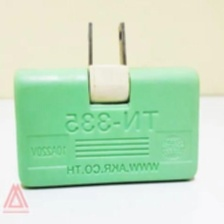three_eye_plug: (10, 14, 204, 191)
